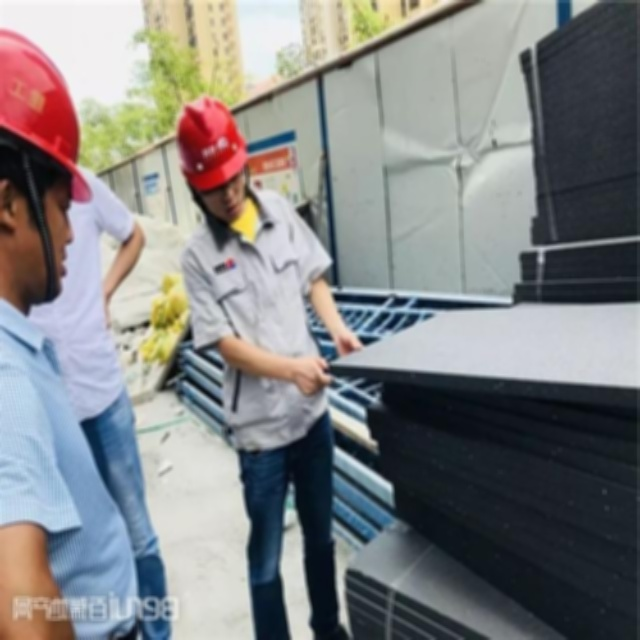Con_Casco: (179, 95, 249, 221)
